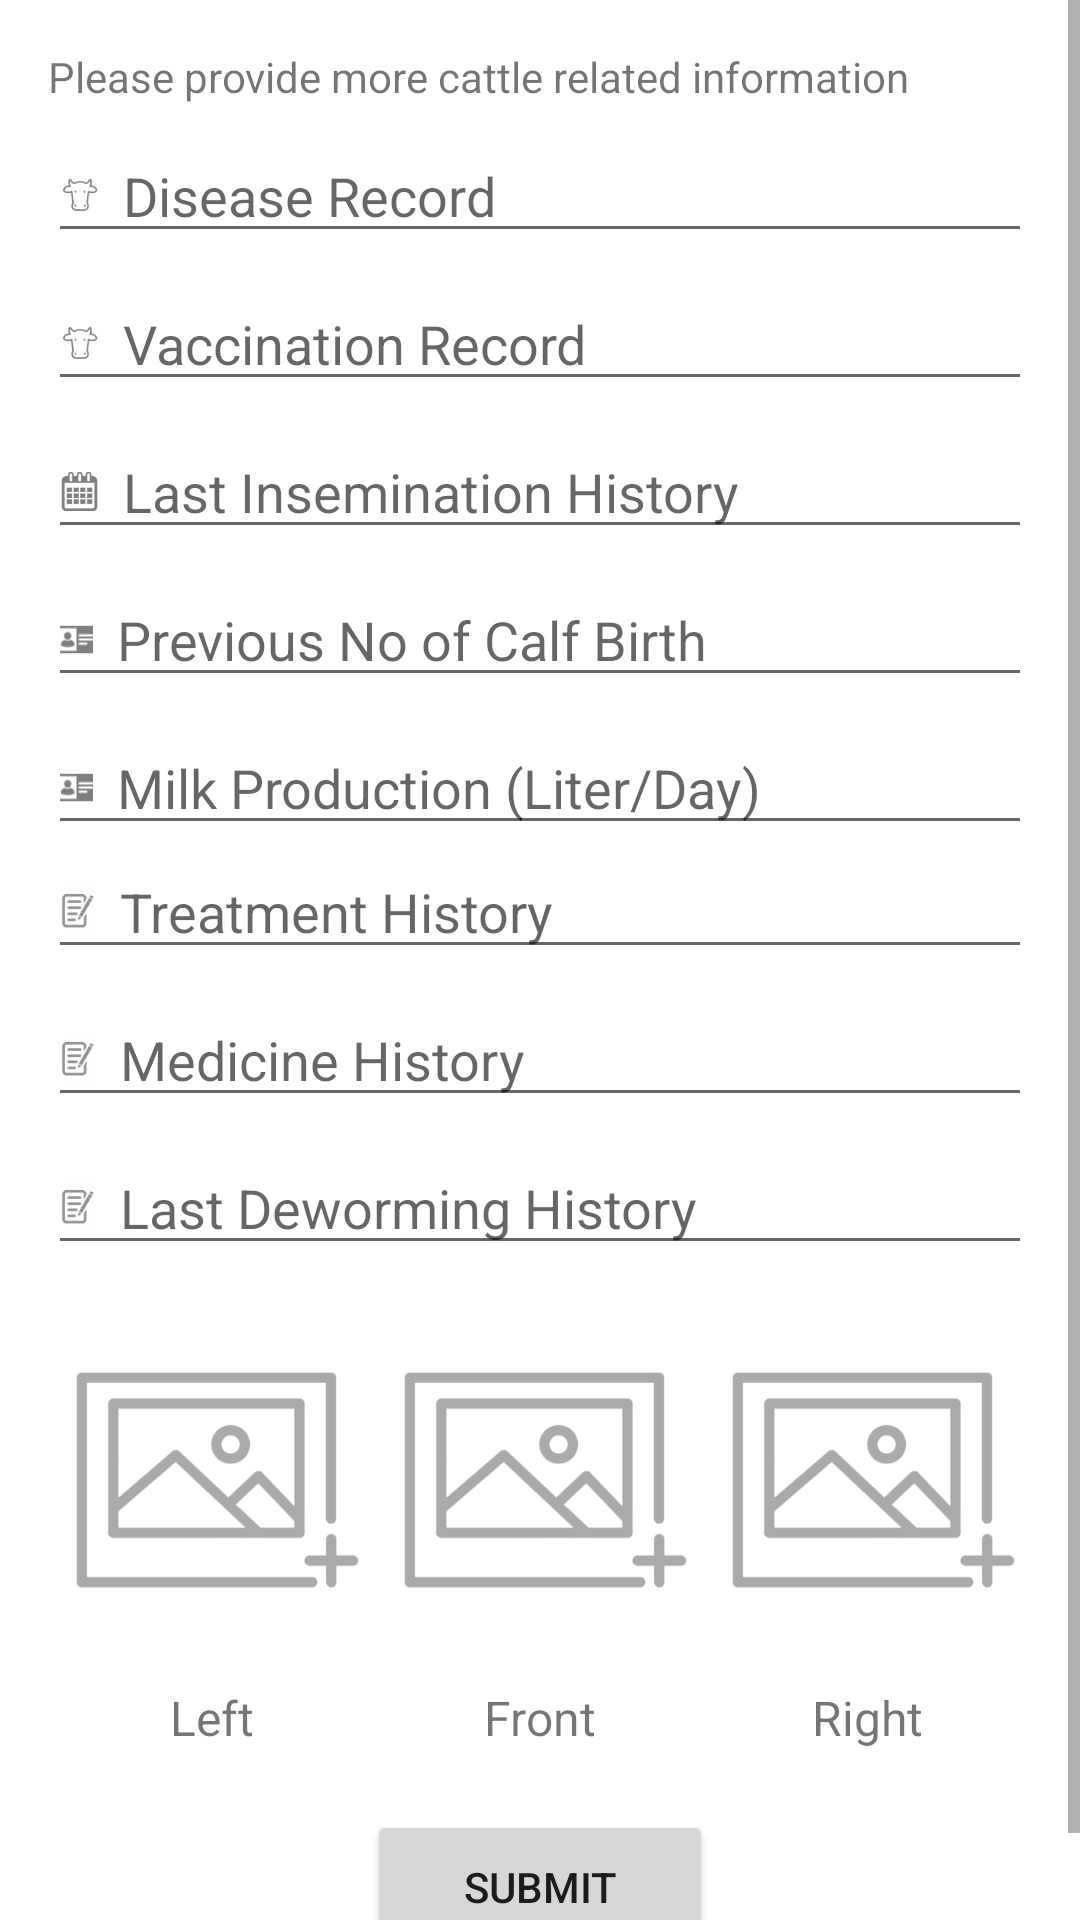

Where icons sit on this 1080 x 1920 app screen, as (x1, y1, x2, y2):
add photo: (77, 1372, 358, 1588), (405, 1372, 686, 1588), (733, 1372, 1014, 1588)
